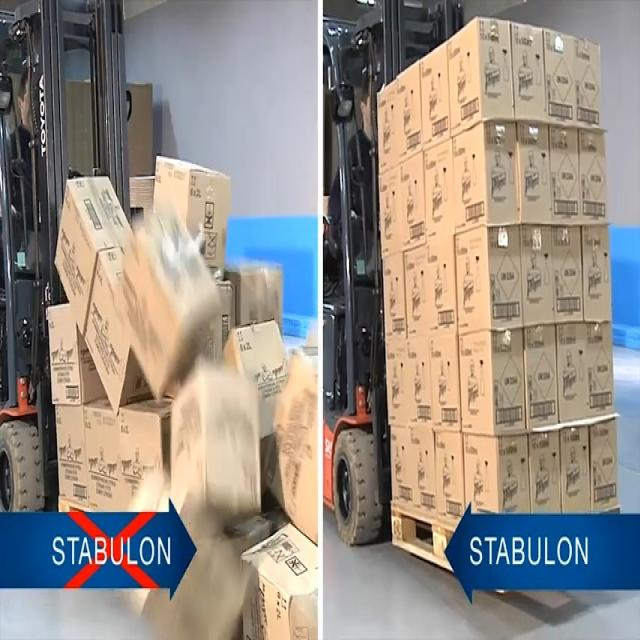Chariot elevateur: (324, 0, 467, 561), (0, 0, 134, 509)
Palette: (388, 499, 473, 585)
